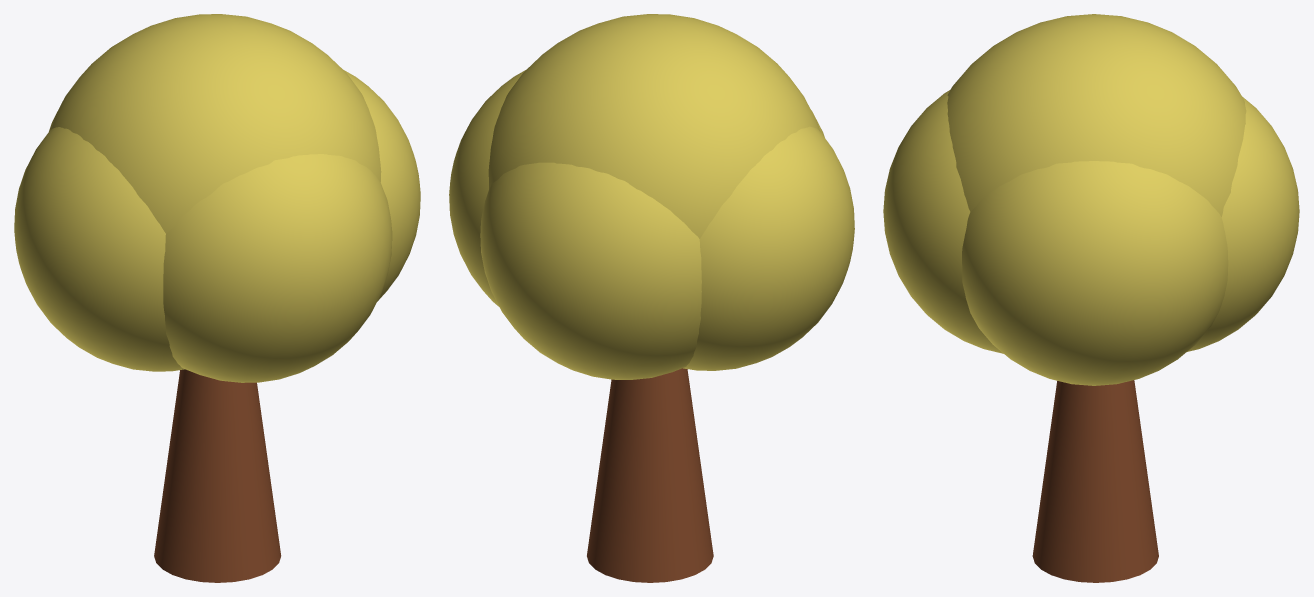
File: JoyLv1.glb
3 views of the same model, side by side, from view 1: azimuth 30°, elevation 25°; view 2: azimuth 150°, elevation 25°; view 3: azimuth 270°, elevation 25° (orthographic).
Parts seen in each view (by area): view 1: GeoSphere047, GeoSphere051, GeoSphere049, Cone214, GeoSphere048; view 2: GeoSphere047, GeoSphere050, GeoSphere049, Cone214, GeoSphere048; view 3: GeoSphere048, GeoSphere047, Cone214, GeoSphere051, GeoSphere050.
Boxes of the visible parts, x1=… form: GeoSphere047: x1=49, y1=14, x2=381, y2=233; GeoSphere051: x1=163, y1=154, x2=392, y2=382; GeoSphere049: x1=14, y1=127, x2=184, y2=371; Cone214: x1=154, y1=369, x2=281, y2=582; GeoSphere048: x1=344, y1=70, x2=420, y2=301; GeoSphere047: x1=488, y1=14, x2=820, y2=238; GeoSphere050: x1=480, y1=162, x2=701, y2=379; GeoSphere049: x1=683, y1=126, x2=854, y2=370; Cone214: x1=587, y1=368, x2=713, y2=582; GeoSphere048: x1=449, y1=70, x2=525, y2=306; GeoSphere048: x1=962, y1=161, x2=1228, y2=385; GeoSphere047: x1=947, y1=14, x2=1246, y2=216; Cone214: x1=1032, y1=380, x2=1158, y2=582; GeoSphere051: x1=883, y1=90, x2=1003, y2=353; GeoSphere050: x1=1187, y1=97, x2=1299, y2=351.
Size of the model in its own units: 0.3704 by 0.5074 by 0.3653.
